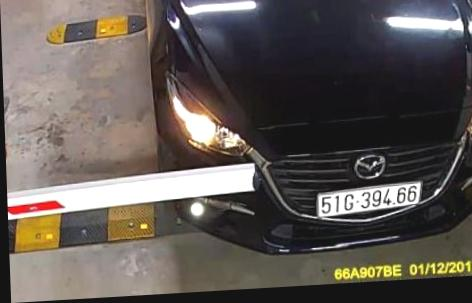License_Plate: (316, 179, 424, 218)
